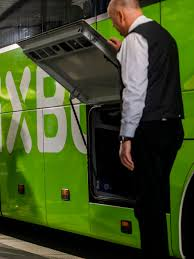bus: (1, 1, 194, 259)
